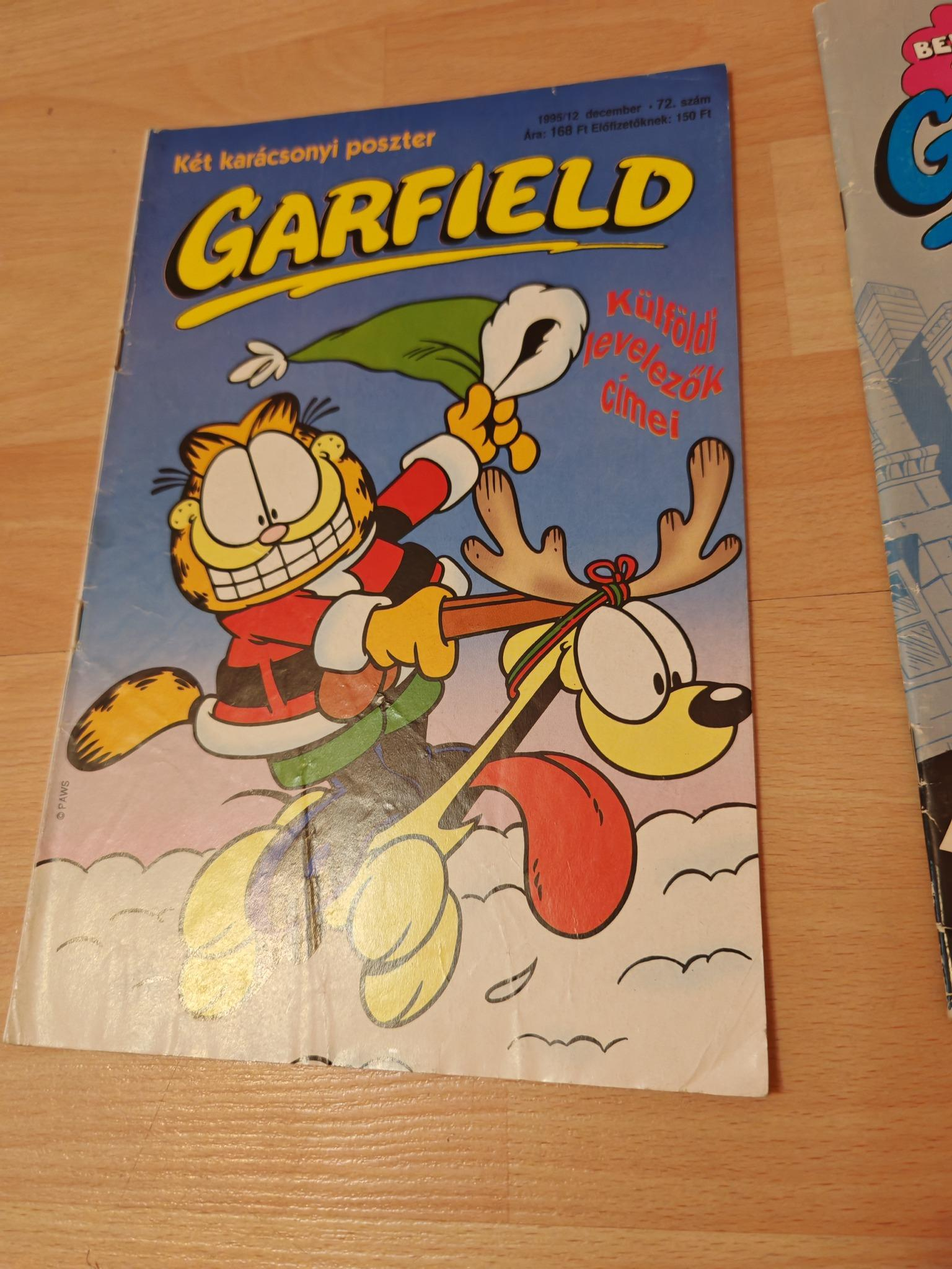comic: (6, 67, 767, 1095)
